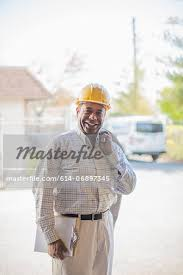Person_wearing_helmet: (67, 79, 112, 120)
